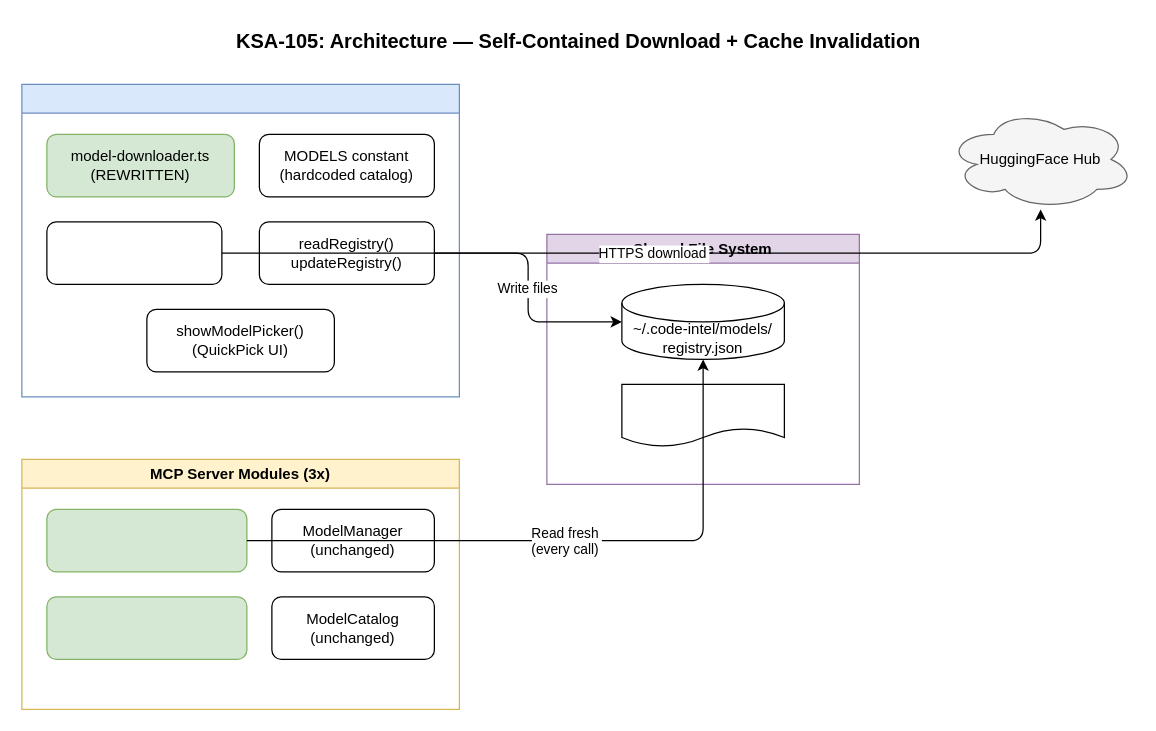
Image size: 1156x731. Some labels were removed from this diagram. The box of each missing label's shape, as (x1, y1, x2, y2) in pixels:
downloadFile() (HTTPS client): (46, 221, 222, 284)
loadRegistry() → reads file EVERY call: (46, 596, 247, 659)
model.onnx vocab.txt: (621, 383, 784, 447)
ModelRegistry (MODIFIED — no cache): (46, 508, 247, 572)
VS Code Extension: (21, 83, 459, 397)
